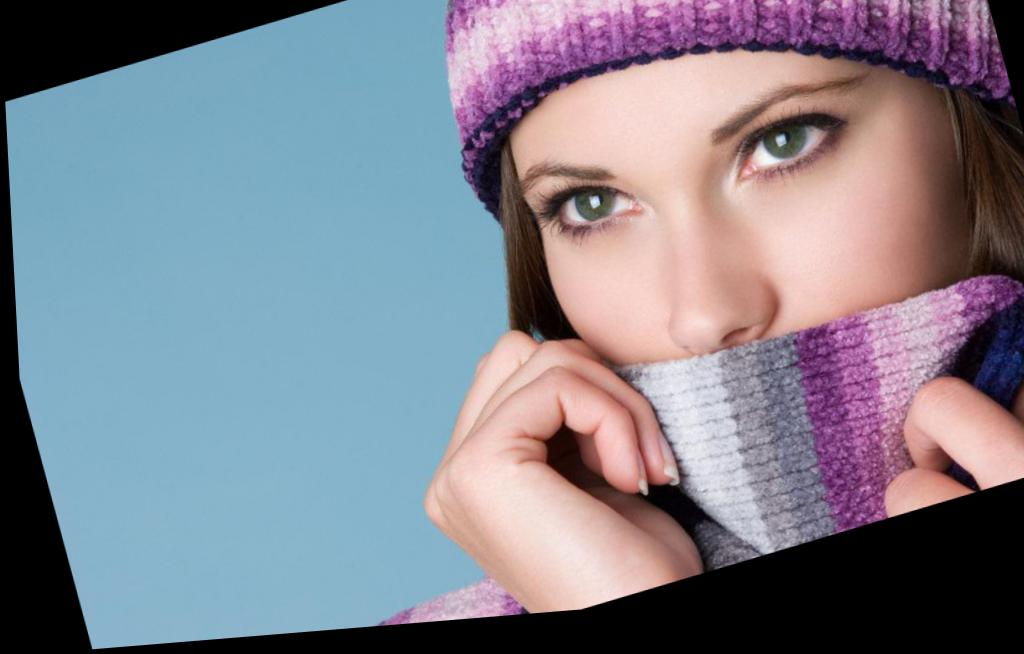WRONG: (499, 27, 973, 542)
